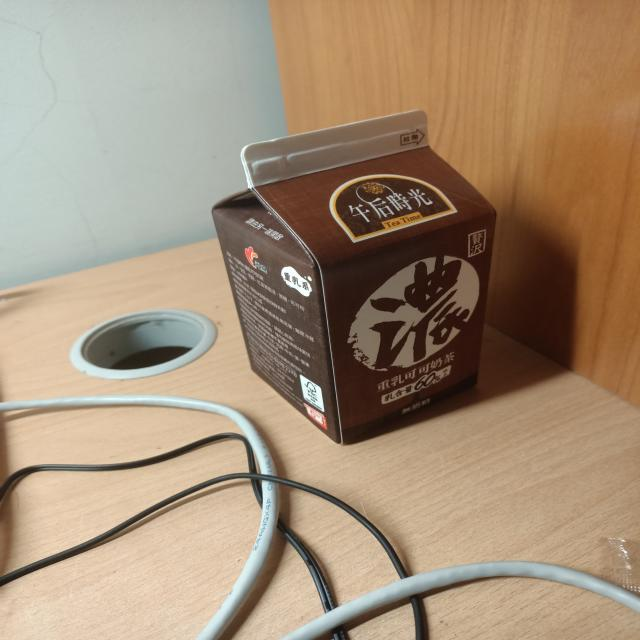Known_ChocoMilkTea: (192, 106, 506, 448)
